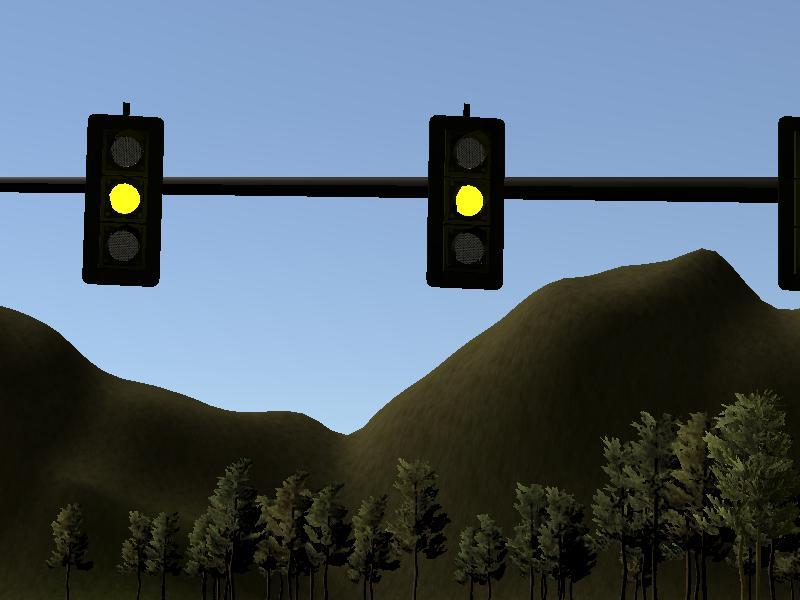Yellow: (81, 114, 164, 288), (426, 114, 505, 290)
